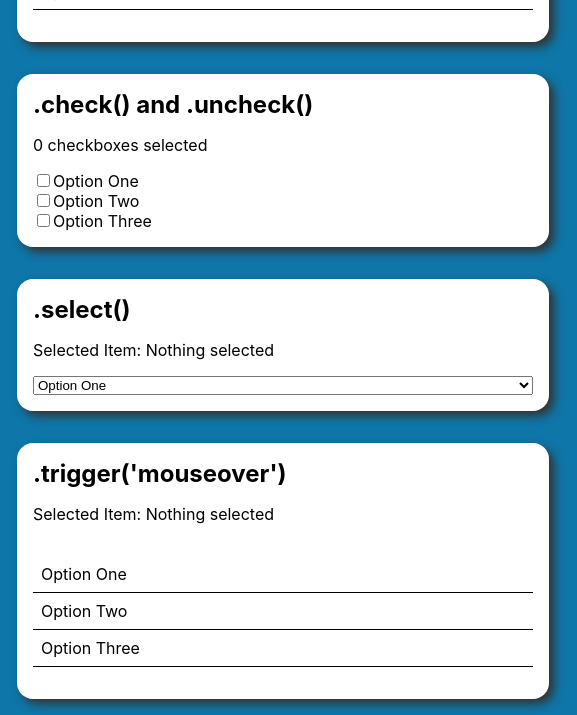
Test: Basic page interactions › should display the name of the most recently hovered item
This screenshot has width=577, height=715.
(page scrolled)
Hover over the list item "Option Two" at (283, 612), box [33, 593, 533, 630]
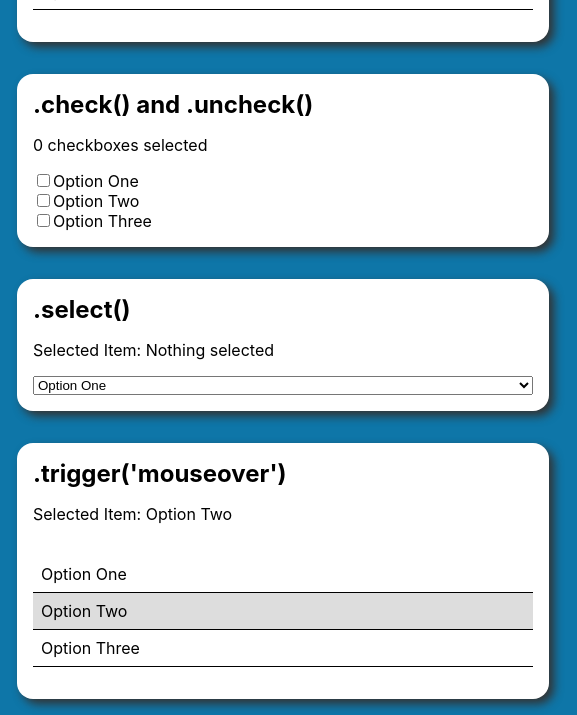
Expected: the text with test id "box-4-selected-name" reads "Option Two", [146, 504, 232, 524]
